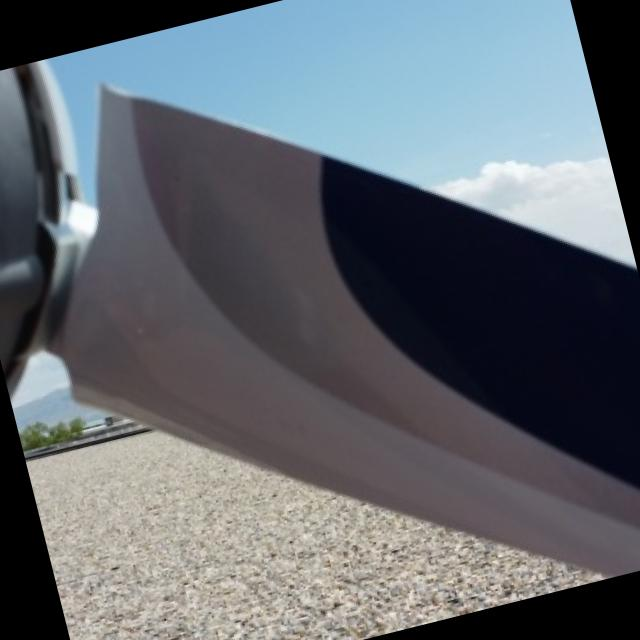healthy: (36, 444, 583, 640)
